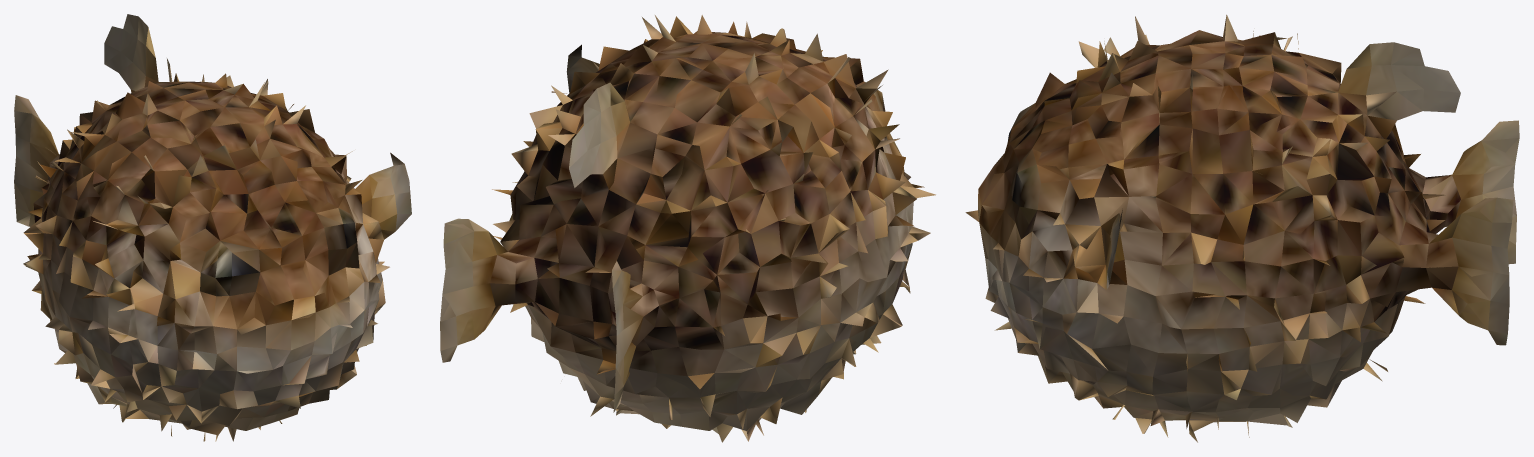
Rendered from pufferfish.glb.
3 views of the same model, side by side, from view 1: azimuth 30°, elevation 25°; view 2: azimuth 150°, elevation 25°; view 3: azimuth 270°, elevation 25° (orthographic). The views are drawn at different scales.
Bounding box in the file's own units: 0.7367 × 0.7308 × 0.983.
1 material, 1 textured.
